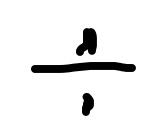div: (32, 28, 136, 116)
